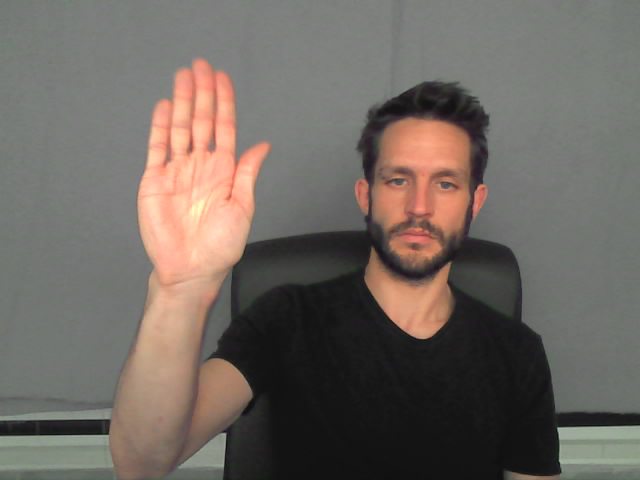stop: (137, 57, 274, 279)
